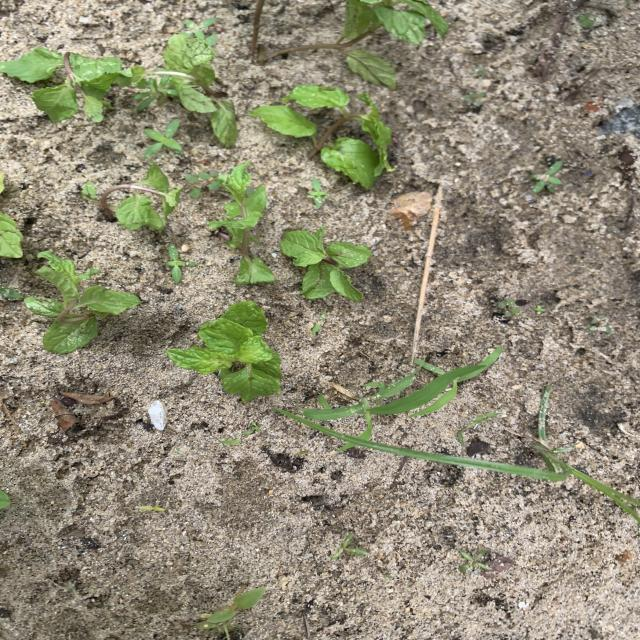crop: (271, 1, 447, 85), (251, 87, 393, 186), (117, 34, 238, 148), (26, 252, 139, 352), (167, 302, 280, 401), (1, 48, 125, 121), (208, 163, 271, 283), (81, 163, 182, 229), (282, 227, 370, 299), (1, 212, 23, 256)
weed: (299, 386, 640, 525), (301, 365, 479, 440), (409, 346, 502, 417), (197, 588, 264, 639), (133, 75, 177, 111), (144, 119, 182, 156), (458, 412, 499, 443), (185, 171, 227, 197), (166, 245, 195, 282), (532, 161, 563, 192), (332, 534, 367, 559), (185, 19, 215, 40), (461, 550, 490, 571), (308, 178, 327, 206), (494, 300, 519, 320), (311, 309, 326, 333), (579, 13, 597, 26), (465, 92, 484, 104), (1, 287, 20, 299), (244, 422, 260, 435), (138, 506, 163, 511), (534, 306, 545, 314), (298, 451, 309, 455)
